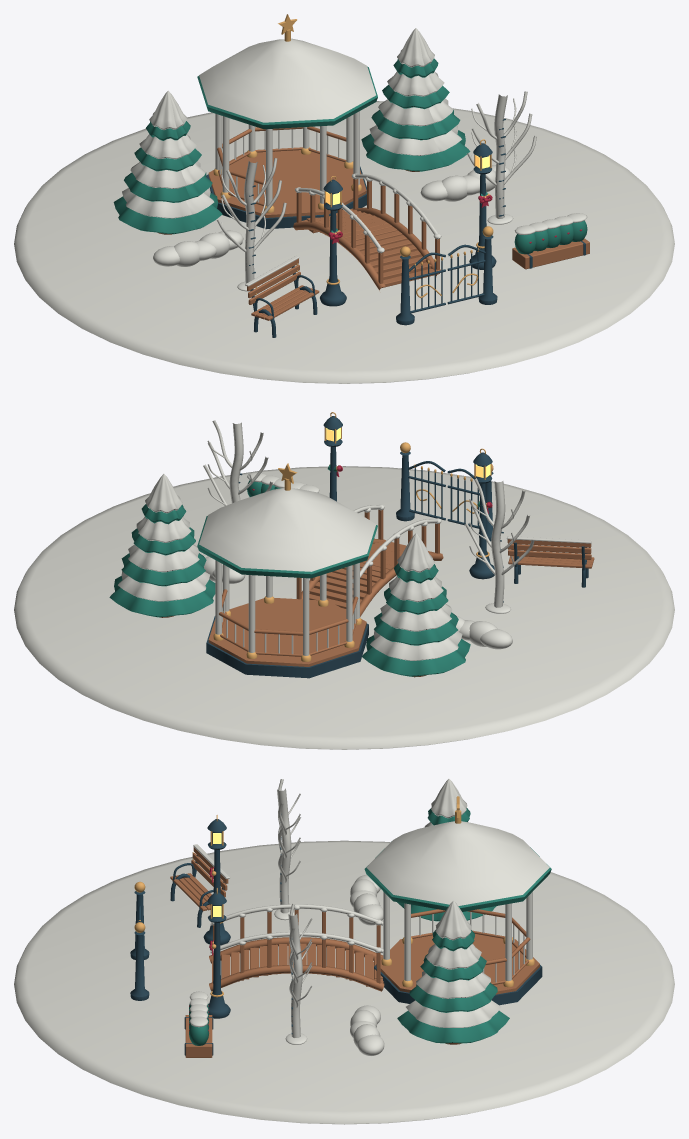
File: storybook-christmas-market-winter-bandstand-garden-15893aca__19745.glb
3 renders of one model, top to bottom at view 1: azimuth 30°, elevation 25°; view 2: azimuth 150°, elevation 25°; view 3: azimuth 270°, elevation 25°, orthographic.
Parts seen in each view (by area): view 1: 000-snowy-market-plaza/0, 001-winter-bandstand/2, 002-snowy-footbridge/0, 001-winter-bandstand/1, 005-snow-laden-spruce/2, 004-snow-laden-spruce/2, 004-snow-laden-spruce/1, 005-snow-laden-spruce/1, 003-scrollwork-garden-gate/0, 007-winter-birch/0, 006-winter-birch/0, 012-soft-snowbank/0 (+12 smaller); view 2: 000-snowy-market-plaza/0, 001-winter-bandstand/2, 001-winter-bandstand/1, 005-snow-laden-spruce/2, 004-snow-laden-spruce/2, 004-snow-laden-spruce/1, 005-snow-laden-spruce/1, 002-snowy-footbridge/0, 006-winter-birch/0, 003-scrollwork-garden-gate/0, 001-winter-bandstand/0, 010-snow-capped-bench/1 (+8 smaller); view 3: 000-snowy-market-plaza/0, 001-winter-bandstand/2, 002-snowy-footbridge/0, 005-snow-laden-spruce/2, 005-snow-laden-spruce/1, 001-winter-bandstand/1, 002-snowy-footbridge/1, 007-winter-birch/0, 006-winter-birch/0, 013-soft-snowbank/0, 001-winter-bandstand/4, 009-ribbon-lantern-post/0 (+9 smaller).
Boxes of the visible parts, bbox=[...] form: 000-snowy-market-plaza/0: bbox=[14, 101, 674, 383]; 001-winter-bandstand/2: bbox=[199, 38, 375, 206]; 002-snowy-footbridge/0: bbox=[293, 179, 440, 290]; 001-winter-bandstand/1: bbox=[208, 126, 366, 233]; 005-snow-laden-spruce/2: bbox=[369, 28, 461, 155]; 004-snow-laden-spruce/2: bbox=[122, 90, 214, 218]; 004-snow-laden-spruce/1: bbox=[113, 121, 222, 234]; 005-snow-laden-spruce/1: bbox=[361, 58, 470, 171]; 003-scrollwork-garden-gate/0: bbox=[396, 235, 497, 325]; 007-winter-birch/0: bbox=[466, 91, 536, 224]; 006-winter-birch/0: bbox=[216, 158, 286, 291]; 012-soft-snowbank/0: bbox=[153, 230, 243, 266]; 000-snowy-market-plaza/0: bbox=[14, 466, 674, 749]; 001-winter-bandstand/2: bbox=[199, 488, 376, 655]; 001-winter-bandstand/1: bbox=[208, 589, 366, 666]; 005-snow-laden-spruce/2: bbox=[118, 474, 209, 601]; 004-snow-laden-spruce/2: bbox=[370, 533, 462, 660]; 004-snow-laden-spruce/1: bbox=[362, 563, 470, 676]; 005-snow-laden-spruce/1: bbox=[109, 504, 215, 617]; 002-snowy-footbridge/0: bbox=[296, 509, 443, 616]; 006-winter-birch/0: bbox=[464, 478, 534, 613]; 003-scrollwork-garden-gate/0: bbox=[396, 451, 493, 541]; 001-winter-bandstand/0: bbox=[206, 616, 368, 678]; 010-snow-capped-bench/1: bbox=[507, 539, 594, 568]; 000-snowy-market-plaza/0: bbox=[14, 840, 674, 1124]; 001-winter-bandstand/2: bbox=[366, 821, 549, 982]; 002-snowy-footbridge/0: bbox=[209, 910, 384, 991]; 005-snow-laden-spruce/2: bbox=[406, 900, 501, 1027]; 005-snow-laden-spruce/1: bbox=[397, 930, 509, 1043]; 001-winter-bandstand/1: bbox=[366, 909, 539, 994]; 002-snowy-footbridge/1: bbox=[209, 904, 383, 953]; 007-winter-birch/0: bbox=[285, 904, 312, 1044]; 006-winter-birch/0: bbox=[274, 779, 300, 920]; 013-soft-snowbank/0: bbox=[350, 1005, 384, 1055]; 001-winter-bandstand/4: bbox=[364, 841, 551, 911]; 009-ribbon-lantern-post/0: bbox=[207, 892, 230, 1018].
Bounding box in the file's own units: 14.54 × 4.65 × 14.54.
